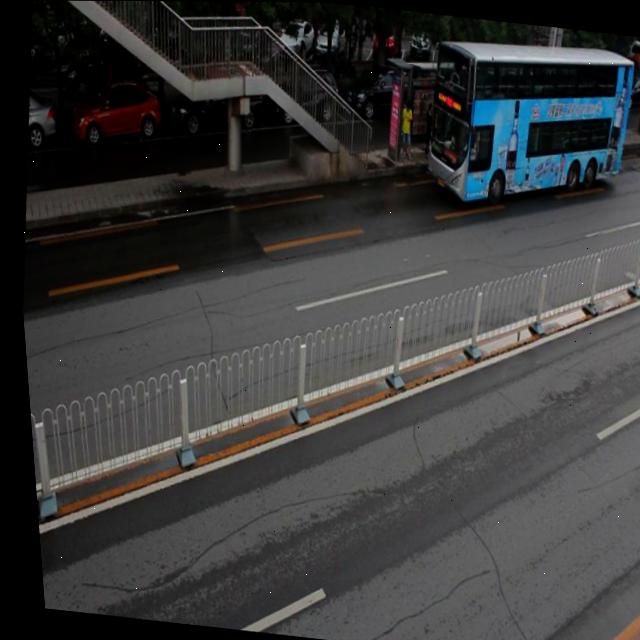car: (65, 75, 164, 154), (163, 75, 266, 144), (336, 62, 424, 132), (265, 65, 340, 129), (22, 89, 59, 151)
van: (411, 26, 640, 219)
